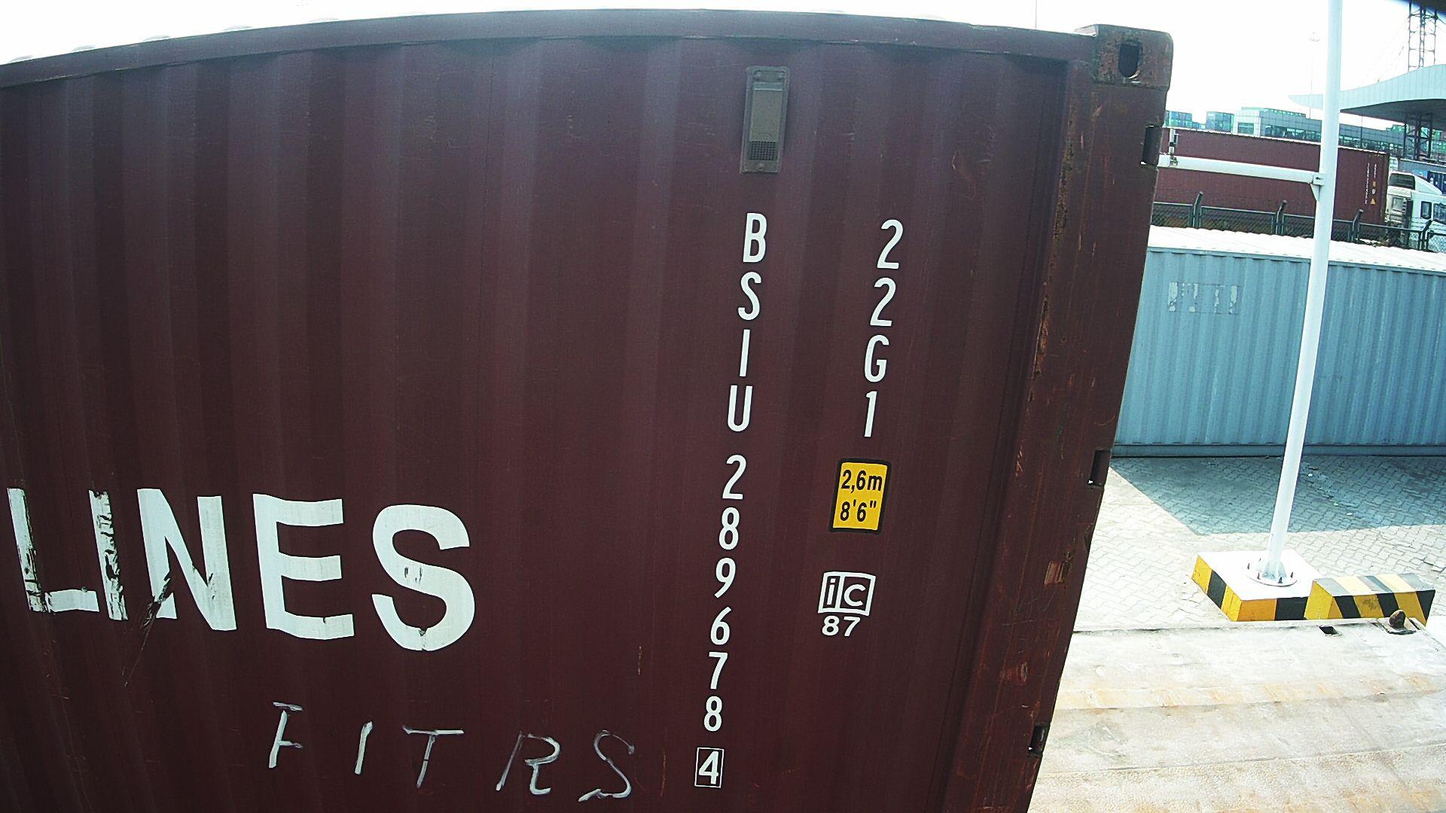container-numbers: (690, 208, 773, 796), (852, 215, 907, 445)
